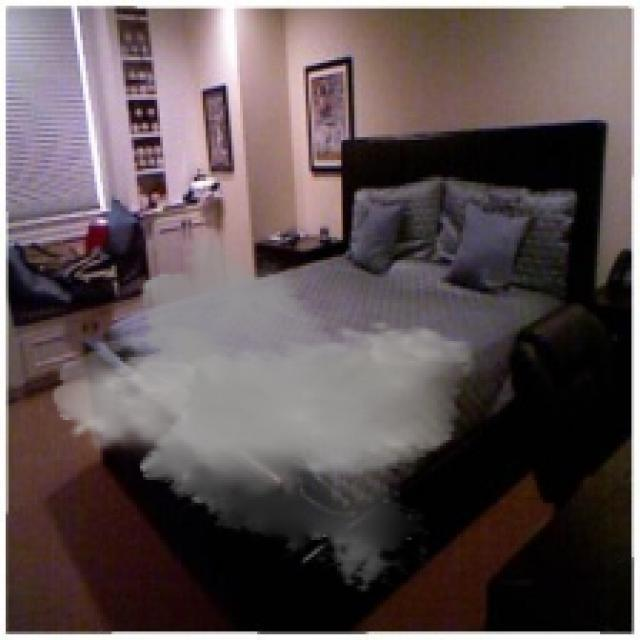Smoke: (52, 226, 477, 594)
